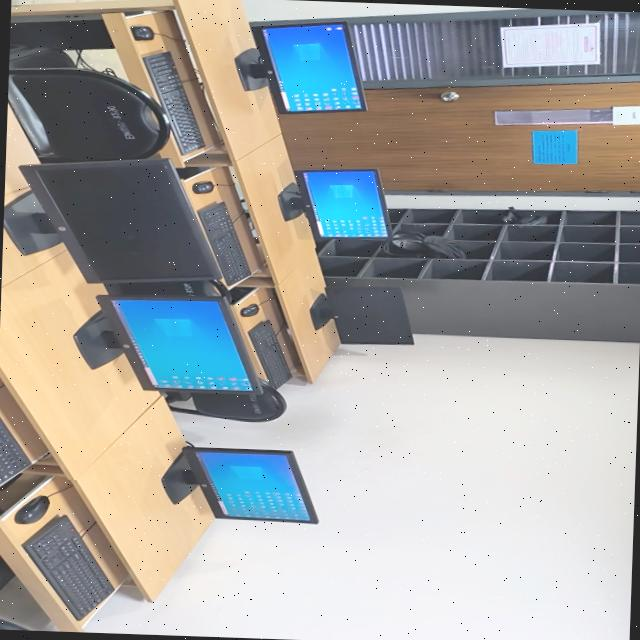Chair: (7, 45, 171, 162), (166, 379, 286, 421), (0, 533, 35, 630), (105, 280, 231, 299)
Cpu: (9, 12, 114, 49)
Keyboard: (22, 514, 114, 619), (143, 50, 204, 154), (197, 201, 251, 285), (248, 319, 291, 388), (0, 417, 32, 485)
Monitor: (3, 158, 222, 282), (111, 298, 254, 390), (162, 445, 318, 523), (235, 21, 367, 113), (278, 168, 390, 237), (310, 286, 413, 343)
Mouse: (15, 495, 50, 523), (130, 25, 154, 39), (192, 180, 213, 193), (240, 303, 258, 315)
